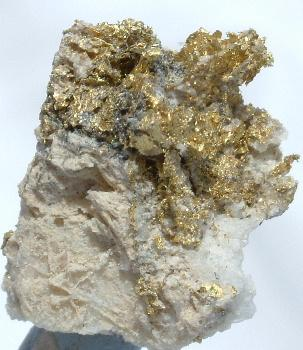gold: (41, 19, 281, 248), (269, 177, 298, 219), (136, 278, 165, 308), (272, 155, 300, 178), (192, 284, 225, 299), (232, 288, 237, 296)
